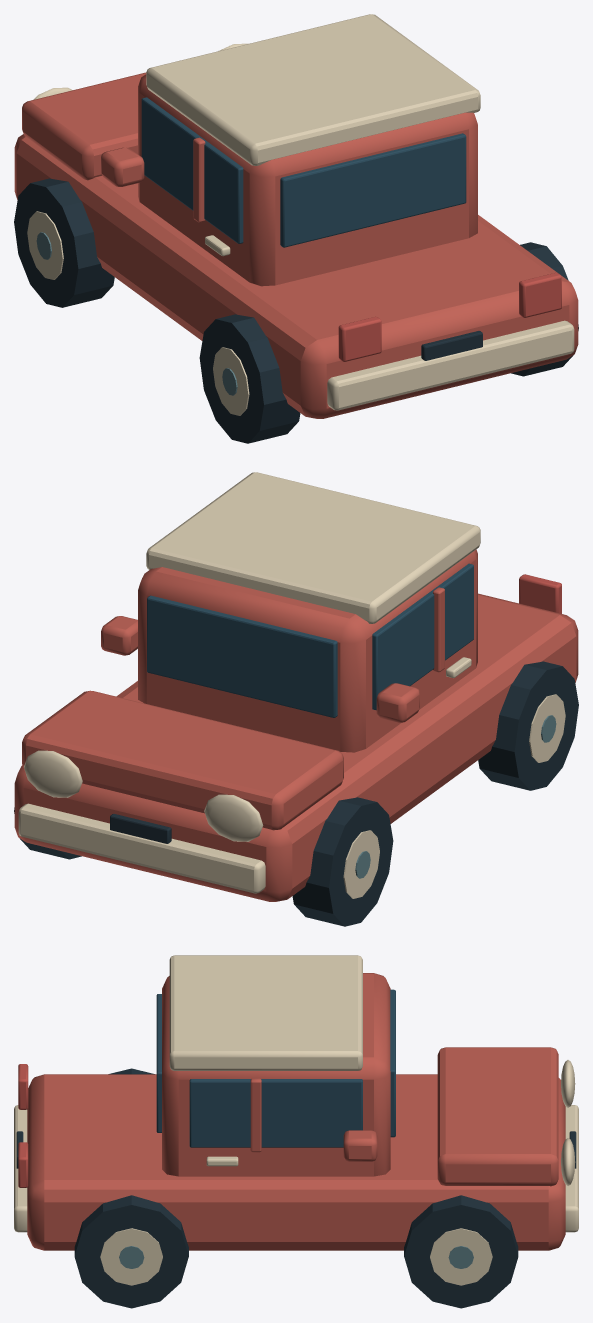
Rendered from car.glb.
3 renders of one model, top to bottom at view 1: azimuth 30°, elevation 25°; view 2: azimuth 150°, elevation 25°; view 3: azimuth 270°, elevation 25°, orthographic. The views are drawn at different scales.
Parts seen in each view (by area): view 1: car.001; view 2: car.001; view 3: car.001.
Boxes of the visible parts, <box> form: car.001: <box>14,14,578,443</box>; car.001: <box>14,472,578,926</box>; car.001: <box>14,955,578,1308</box>.
Size of the model in its own units: 1.95 by 1.56 by 3.36.
